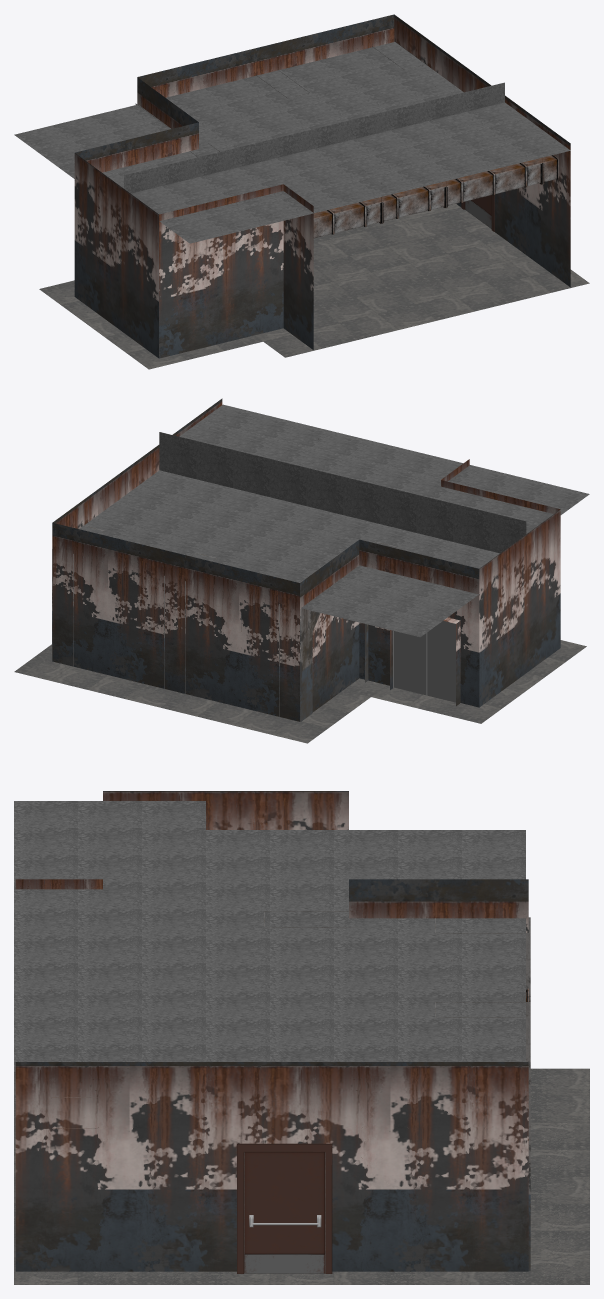
File: ALL Section 2.fbx
The picture shows the model from 3 angles, top to bottom: view 1: azimuth 30°, elevation 25°; view 2: azimuth 150°, elevation 25°; view 3: azimuth 270°, elevation 25°; orthographic projection. The views are drawn at different scales.
Parts seen in each view (by area): view 1: FloorCeilingWallPillar1, Section2Walls, Vents_3, Door2; view 2: FloorCeilingWallPillar1, Section2Walls, ElevatorDoors; view 3: FloorCeilingWallPillar1, Section2Walls, Door2, DoorFrame.
Part boxes in pixels (x1,y1,x2,y2): FloorCeilingWallPillar1: [14, 41, 589, 369]; Section2Walls: [74, 14, 570, 358]; Vents_3: [313, 132, 558, 238]; Door2: [464, 195, 491, 228]; FloorCeilingWallPillar1: [14, 404, 589, 743]; Section2Walls: [52, 398, 560, 721]; ElevatorDoors: [393, 621, 455, 702]; FloorCeilingWallPillar1: [14, 801, 589, 1284]; Section2Walls: [15, 791, 528, 1271]; Door2: [244, 1152, 324, 1273]; DoorFrame: [237, 1143, 332, 1273].
Bounding box in the file's own units: 1100 × 400 × 900.
